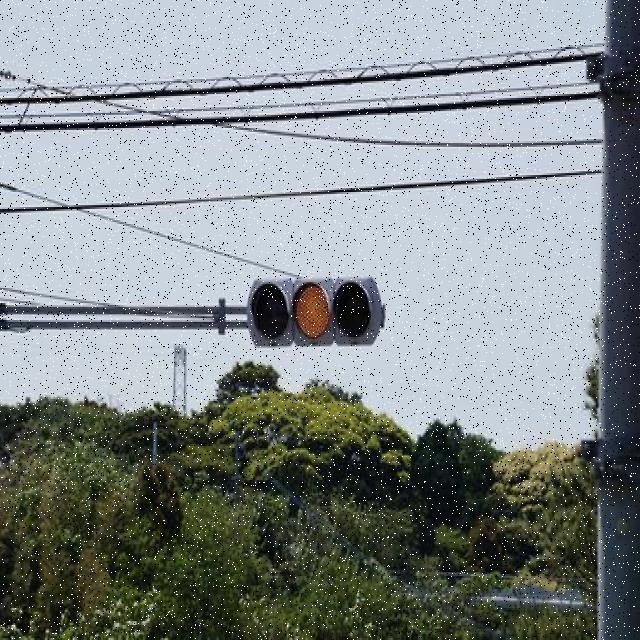Yellow-traffic-light: (281, 268, 335, 347)
